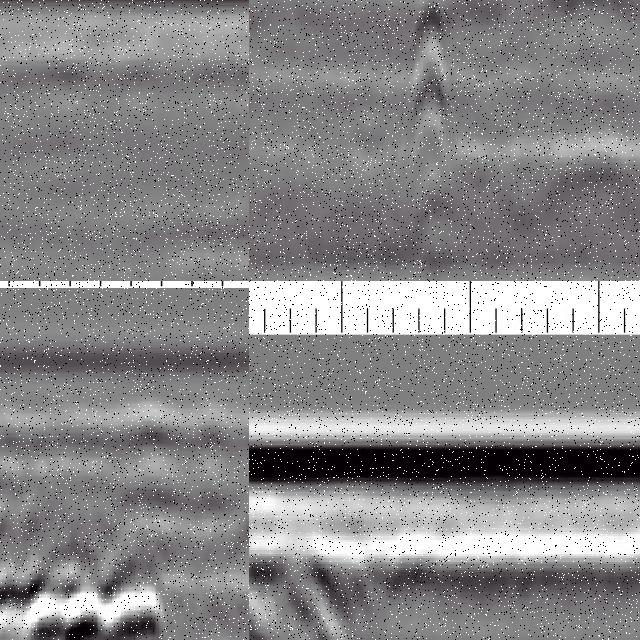crack: (409, 1, 447, 191)
loose: (1, 538, 166, 640), (250, 523, 386, 640)
